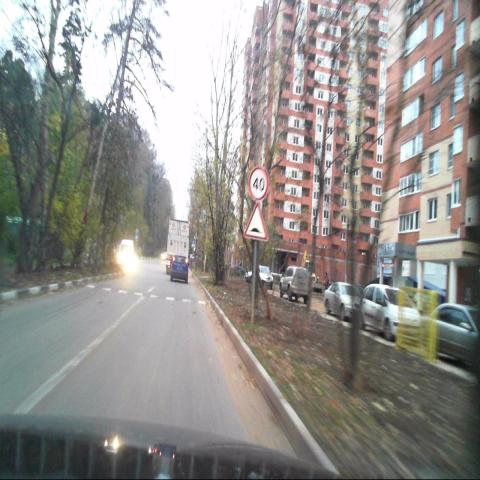1_17: (244, 202, 268, 242)
3_24: (249, 166, 268, 201)
